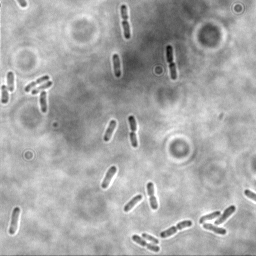Dividing: (159, 219, 195, 240), (130, 233, 161, 253), (164, 44, 179, 82), (24, 74, 51, 94), (119, 3, 131, 42), (145, 180, 159, 212), (127, 114, 138, 149), (201, 223, 228, 237)
Rod: (213, 204, 238, 227), (7, 205, 22, 237), (100, 164, 119, 189), (101, 118, 118, 144), (123, 193, 144, 213), (31, 80, 54, 96), (199, 210, 222, 224), (111, 52, 122, 79), (140, 232, 160, 246), (38, 90, 49, 115), (5, 70, 16, 93), (1, 83, 10, 105)
